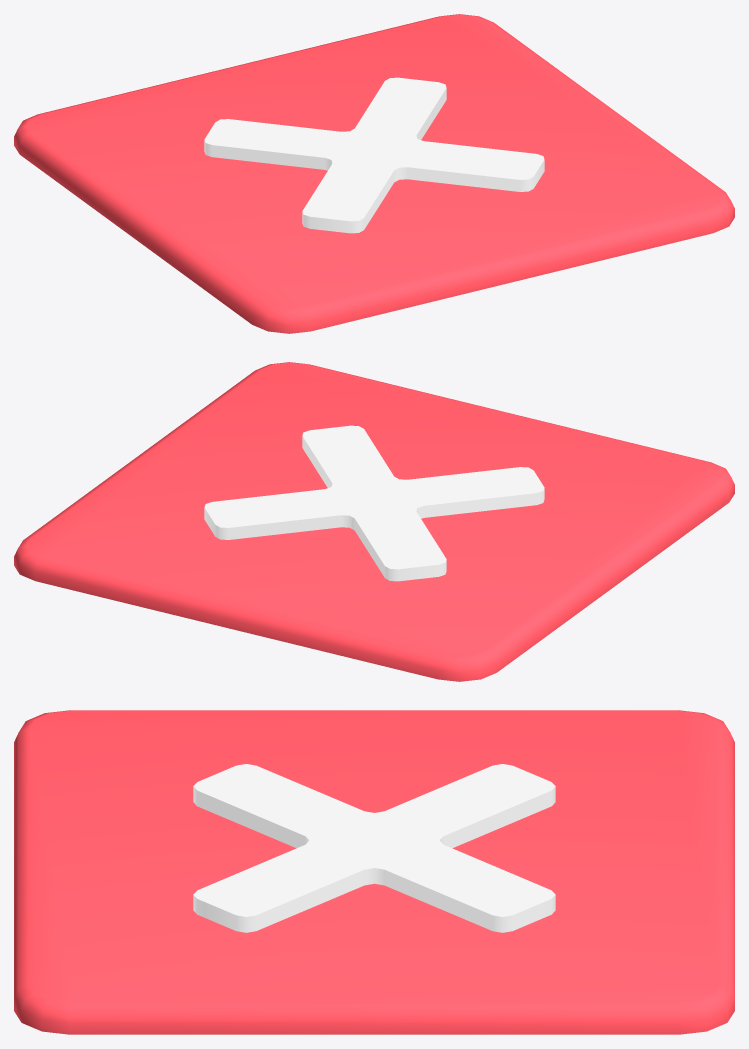
File: cell_red.glb
3 renders of one model, top to bottom at view 1: azimuth 30°, elevation 25°; view 2: azimuth 150°, elevation 25°; view 3: azimuth 270°, elevation 25°, orthographic. The views are drawn at different scales.
Parts seen in each view (by area): view 1: cell_red; view 2: cell_red; view 3: cell_red.
Boxes of the visible parts, x1,y1,x2,y2 form: cell_red: (14,14,734,333); cell_red: (14,362,734,681); cell_red: (14,710,734,1034).
Bounding box in the file's own units: 1 × 0.0642 × 1.
2 materials, 2 textured.
